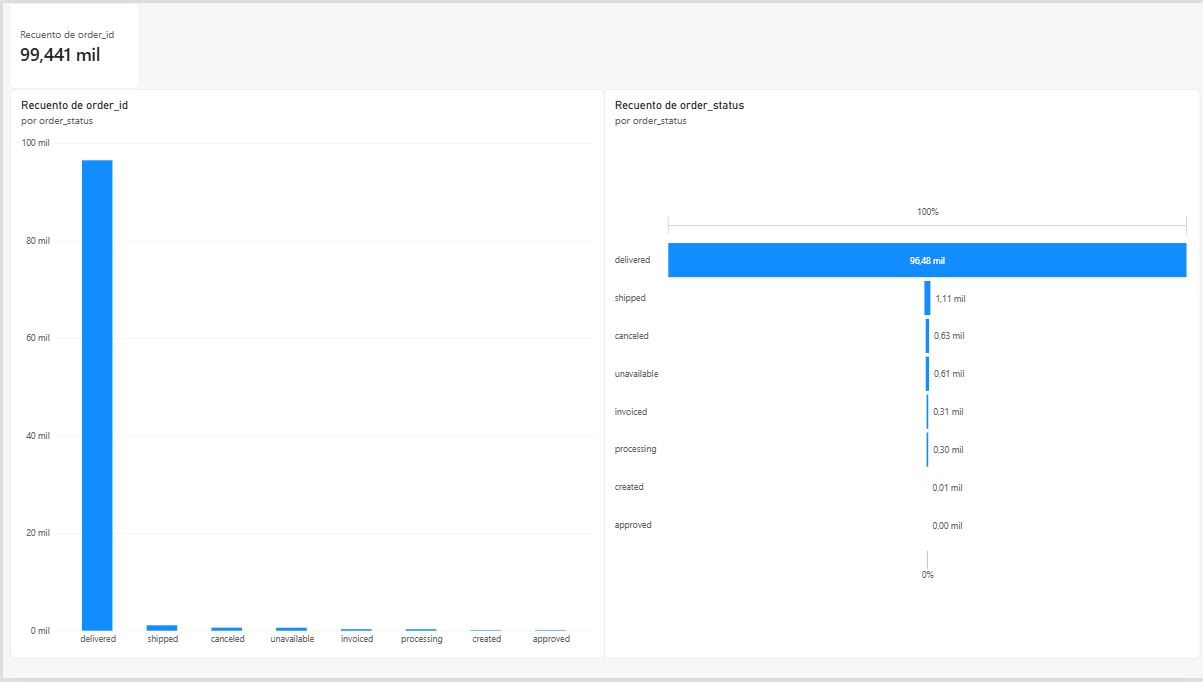

The page's visual inventory and layout, read from the dashboard file:
{"tool":"powerbi","page":{"name":"Página 1","canvas":[1920,1080],"ordinal":0},"visuals":[{"type":"cardVisual","fields":{"Data":["CountNonNull(olist_orders_dataset.order_id)"]},"box":[10.3,0,209.9,137.9],"z":0},{"type":"columnChart","fields":{"Category":["olist_orders_dataset.order_status"],"Y":["CountNonNull(olist_orders_dataset.order_id)"]},"box":[11.5,138.5,950,911.5],"z":1000},{"type":"funnel","fields":{"Category":["olist_orders_dataset.order_status"],"Y":["CountNonNull(olist_orders_dataset.order_status)"]},"box":[961.5,138.5,953.8,911.5],"z":1001}]}

Visuals, with their boxes in screenshot pixels (x1, y1, x2, y2), scaled from the page's 1920x1080 canvas onto the 1203x682 screenshot:
cardVisual - CountNonNull(olist_orders_dataset.order_id): crop(6, 0, 138, 87)
columnChart - olist_orders_dataset.order_status x CountNonNull(olist_orders_dataset.order_id): crop(7, 87, 602, 663)
funnel - olist_orders_dataset.order_status x CountNonNull(olist_orders_dataset.order_status): crop(602, 87, 1200, 663)
